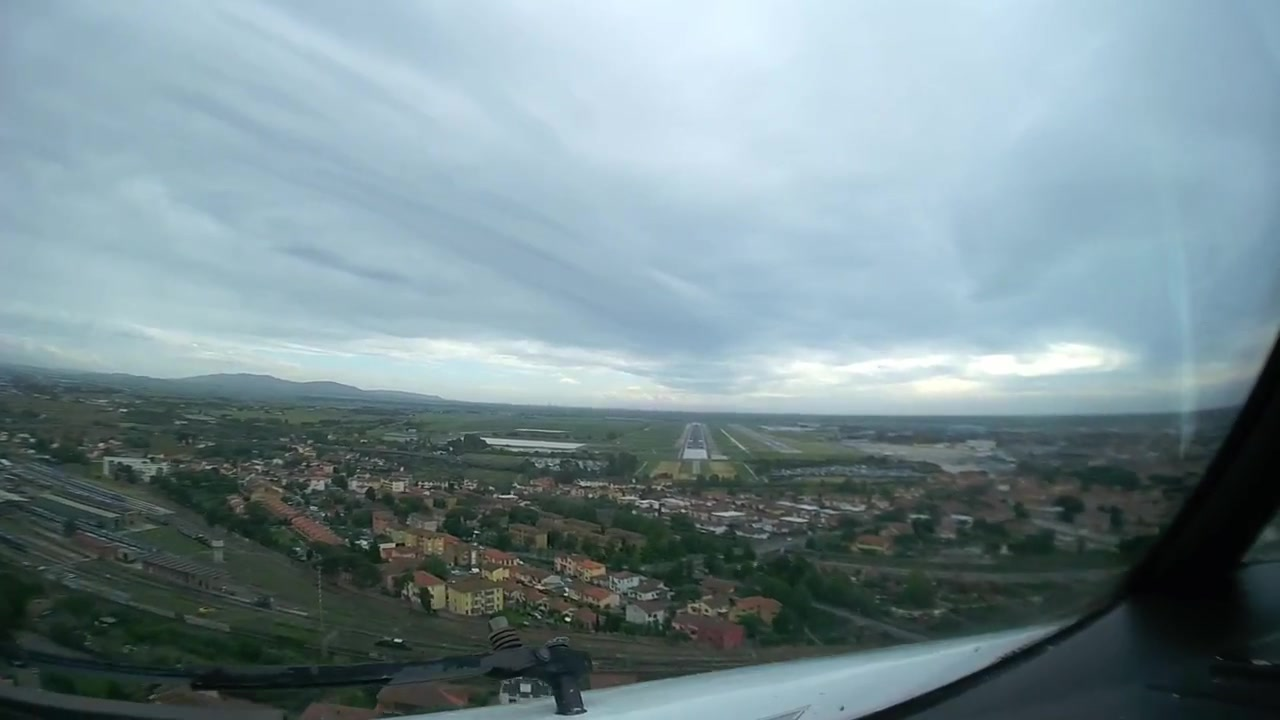runway: (681, 423, 706, 459)
